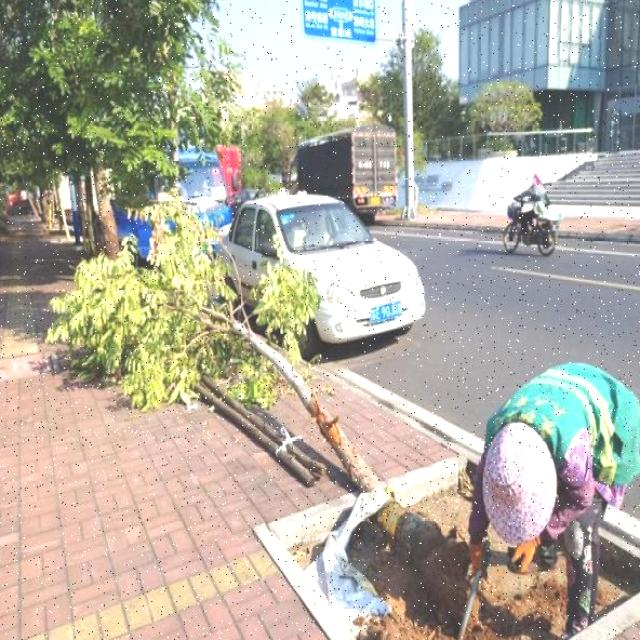fallen_object: (42, 190, 466, 607)
